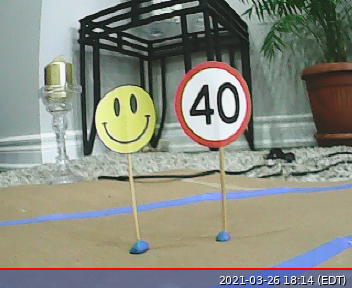Person: (94, 85, 156, 152)
Speed Limit 40: (173, 61, 252, 148)
